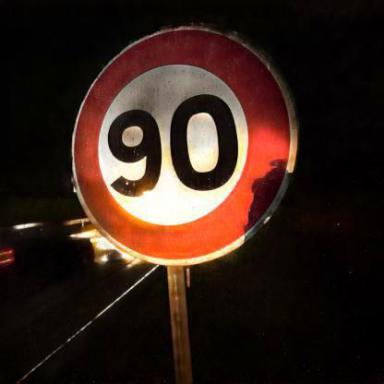Speed_limit_90: (75, 33, 294, 264)
